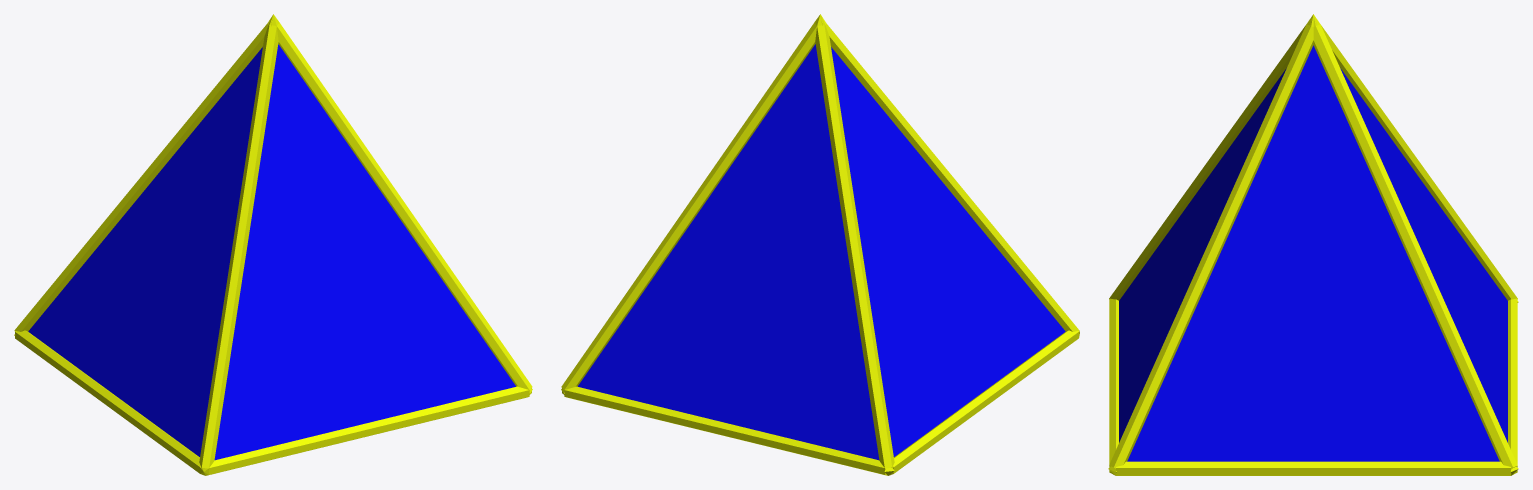
File: piramide_aristas.glb
The picture shows the model from 3 angles, left to right: view 1: azimuth 30°, elevation 25°; view 2: azimuth 150°, elevation 25°; view 3: azimuth 270°, elevation 25°; orthographic projection. The views are drawn at different scales.
Visible parts, largest first — view 1: Pyramid002, Pyramid001; view 2: Pyramid002, Pyramid001; view 3: Pyramid002, Pyramid001.
Boxes of the visible parts, <box> form: Pyramid002: <box>28,44,515,460</box>; Pyramid001: <box>14,14,532,475</box>; Pyramid002: <box>578,44,1065,460</box>; Pyramid001: <box>561,14,1079,475</box>; Pyramid002: <box>1119,45,1507,461</box>; Pyramid001: <box>1108,14,1518,475</box>.
Size of the model in its own units: 0.6604 by 0.6716 by 0.6604.
